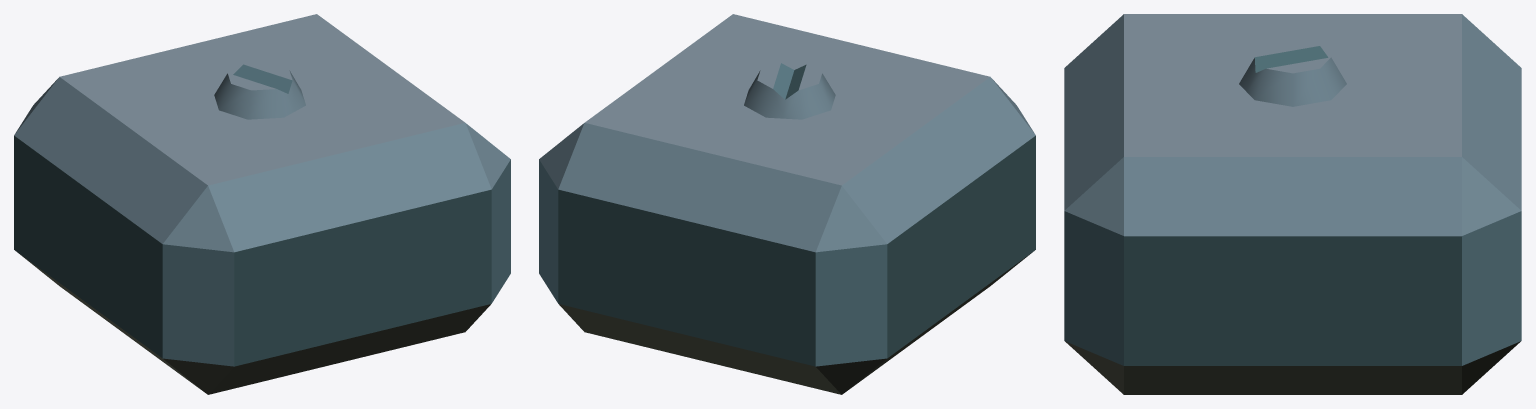
The model's file is m_kub_metal_floorBrickMini.FBX.
3 views of the same model, side by side, from view 1: azimuth 30°, elevation 25°; view 2: azimuth 150°, elevation 25°; view 3: azimuth 270°, elevation 25° (orthographic). The views are drawn at different scales.
Parts seen in each view (by area): view 1: m_kub_metal_floorBrickMini; view 2: m_kub_metal_floorBrickMini; view 3: m_kub_metal_floorBrickMini.
Part boxes in pixels (bbox=[...]): m_kub_metal_floorBrickMini: bbox=[14, 14, 510, 394]; m_kub_metal_floorBrickMini: bbox=[539, 14, 1035, 394]; m_kub_metal_floorBrickMini: bbox=[1064, 14, 1521, 394].
Bounding box in the file's own units: 1.18 × 0.7512 × 1.18.
